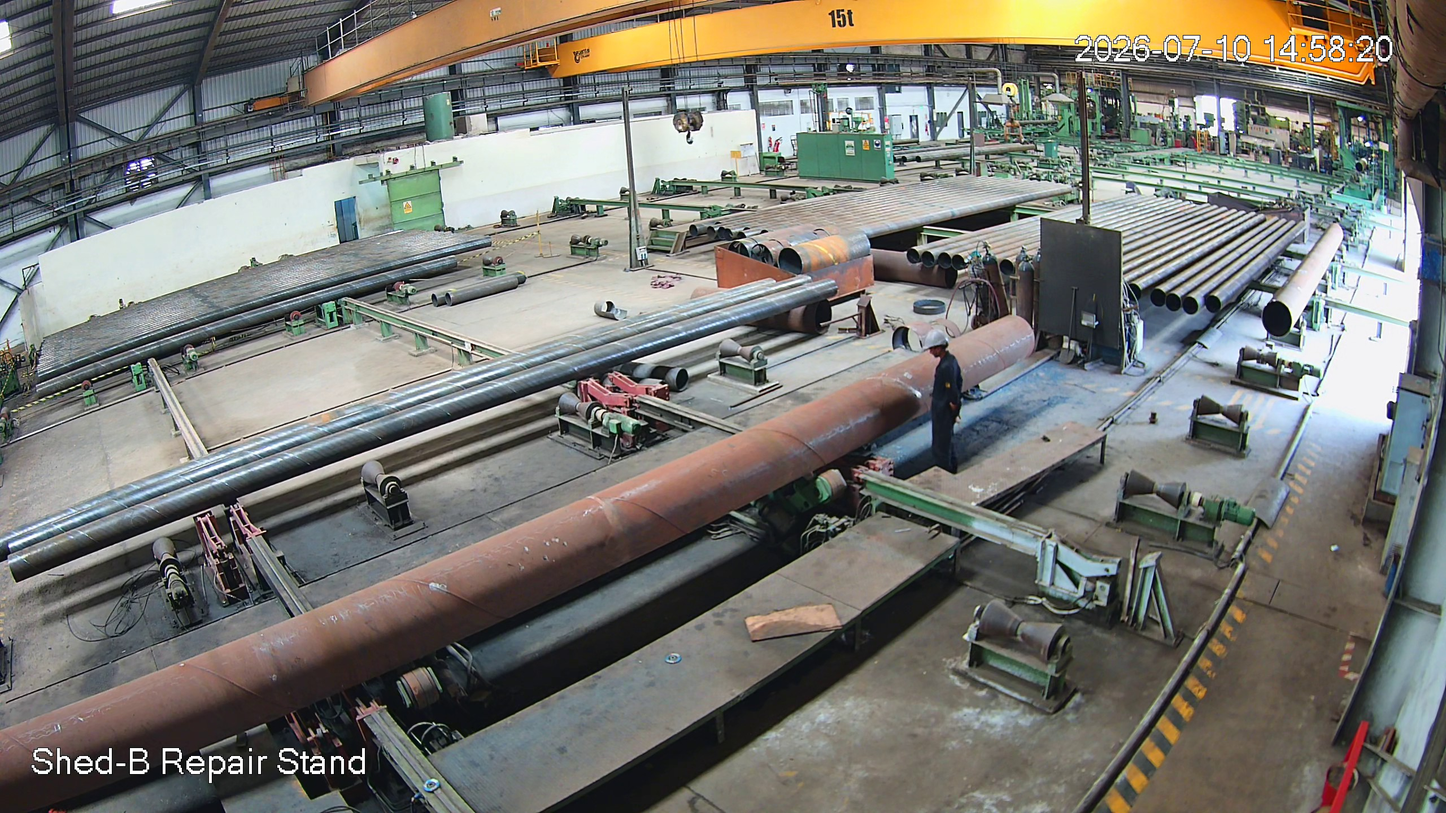Helmet: (921, 322, 956, 362)
Person: (920, 327, 968, 474)
